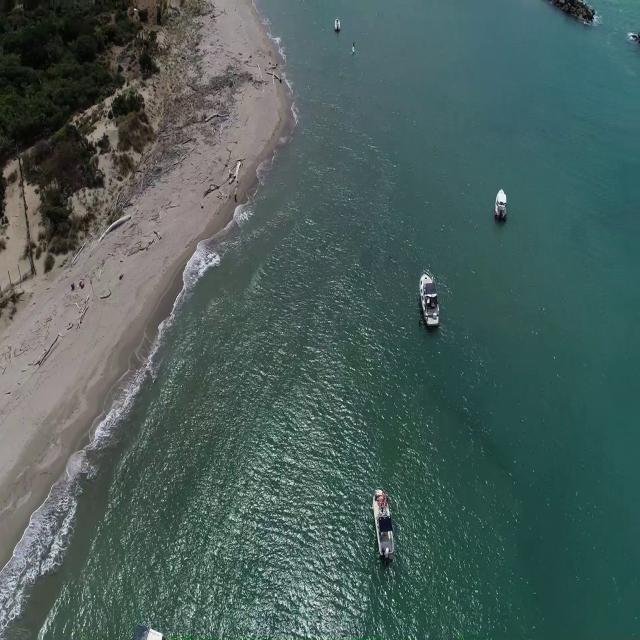boat: (368, 484, 392, 564), (412, 267, 436, 331), (488, 187, 504, 222), (326, 16, 335, 33)
person: (346, 38, 352, 50)
surfboard: (344, 46, 351, 58)
wood: (195, 161, 237, 206)
